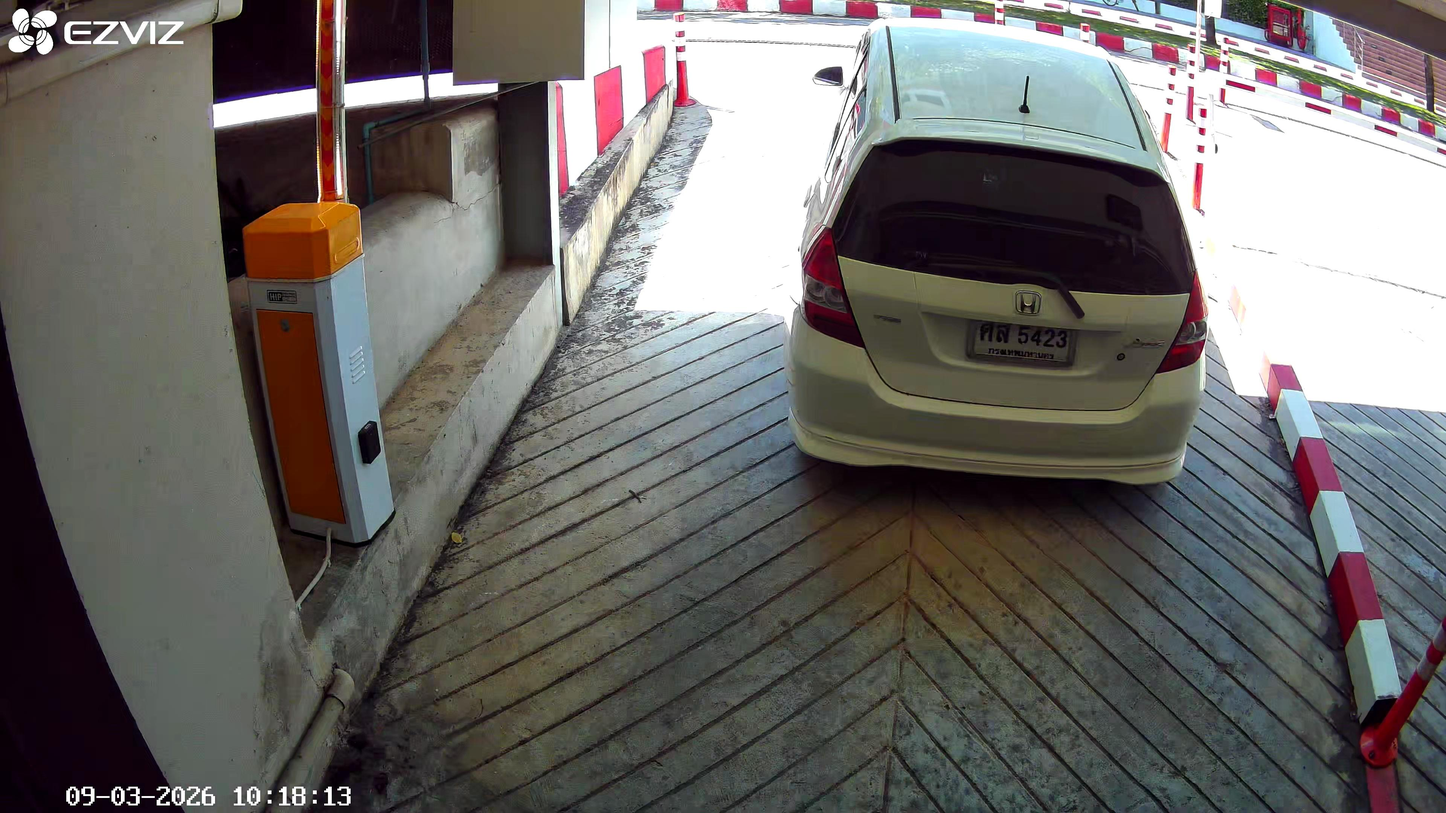car: (787, 19, 1208, 494)
license-plate: (967, 320, 1075, 366)
